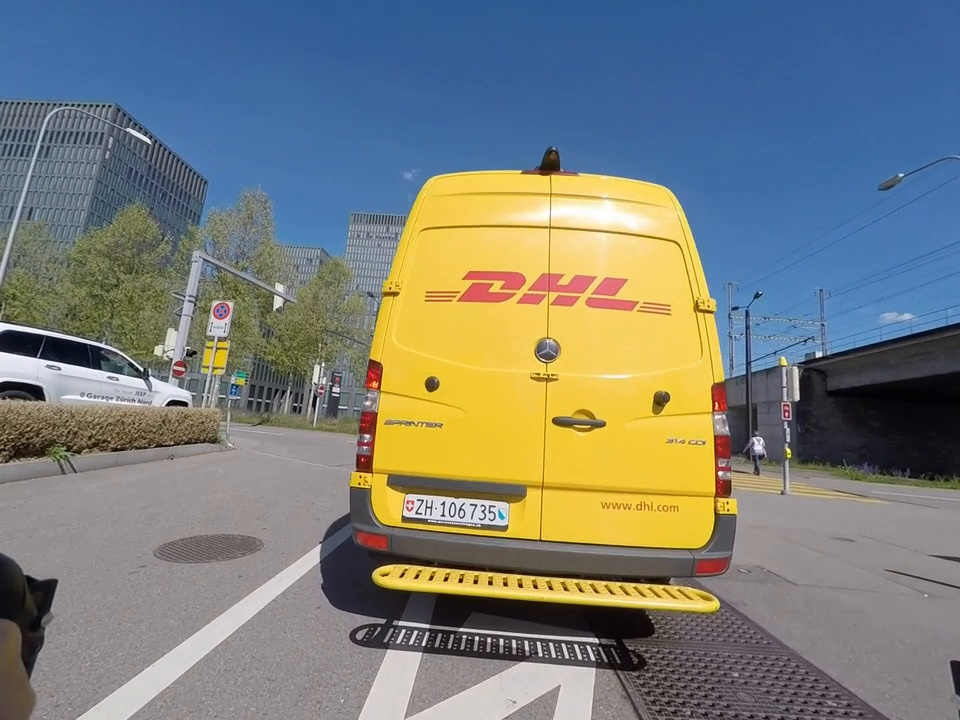car: (337, 131, 746, 627)
